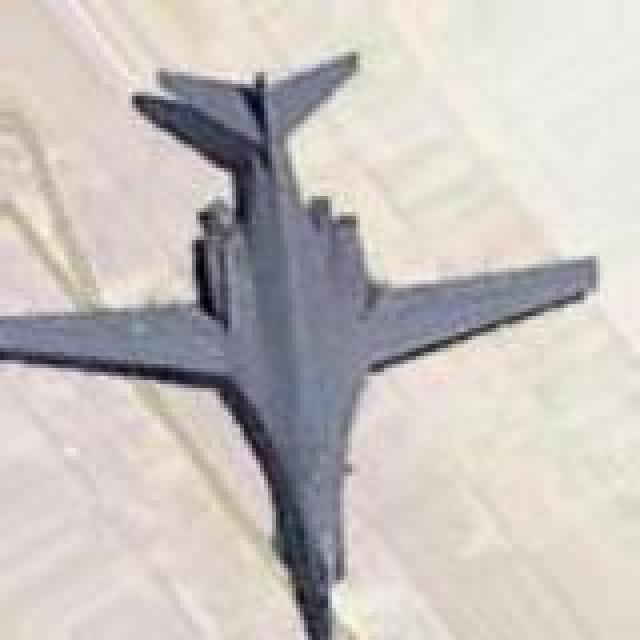B-1_TopDown: (0, 44, 600, 636)
